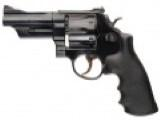gun: (2, 4, 159, 116)
